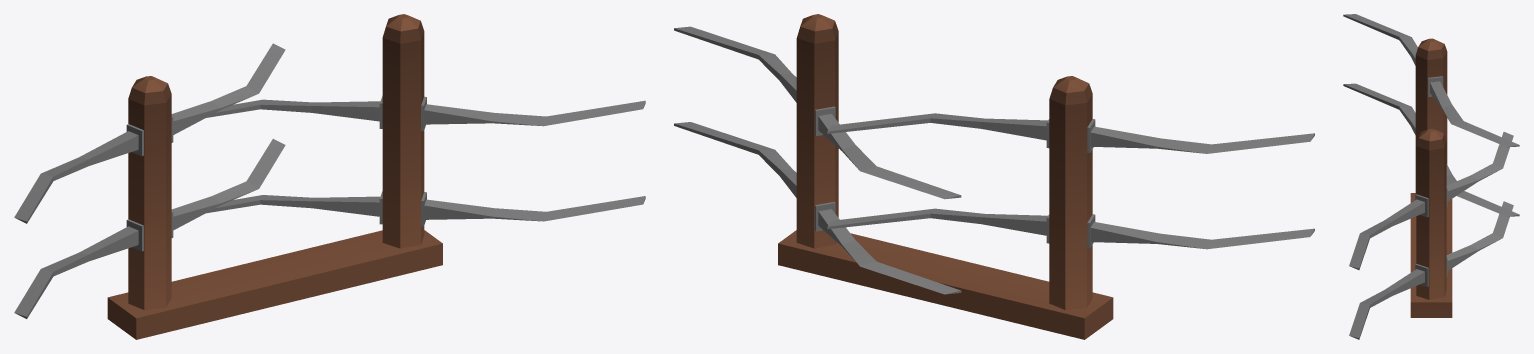
The model's file is Double_Turning_Knifes.fbx.
3 views of the same model, side by side, from view 1: azimuth 30°, elevation 25°; view 2: azimuth 150°, elevation 25°; view 3: azimuth 270°, elevation 25° (orthographic). The views are drawn at different scales.
Parts seen in each view (by area): view 1: Right_Knife, Left_Knife, Double_Turning_Knifes; view 2: Left_Knife, Right_Knife, Double_Turning_Knifes; view 3: Right_Knife, Left_Knife, Double_Turning_Knifes.
Part boxes in pixels (left/top/right/bottom): Right_Knife: left=206, top=14, right=645, bottom=248; Left_Knife: left=14, top=43, right=285, bottom=318; Double_Turning_Knifes: left=107, top=230, right=442, bottom=339; Left_Knife: left=827, top=76, right=1314, bottom=310; Right_Knife: left=674, top=14, right=961, bottom=294; Double_Turning_Knifes: left=778, top=230, right=1113, bottom=339; Right_Knife: left=1349, top=128, right=1513, bottom=339; Left_Knife: left=1343, top=14, right=1519, bottom=216; Double_Turning_Knifes: left=1410, top=193, right=1452, bottom=317.
Bounding box in the file's own units: 192 × 70.69 × 63.27.
1 material, 1 textured.
